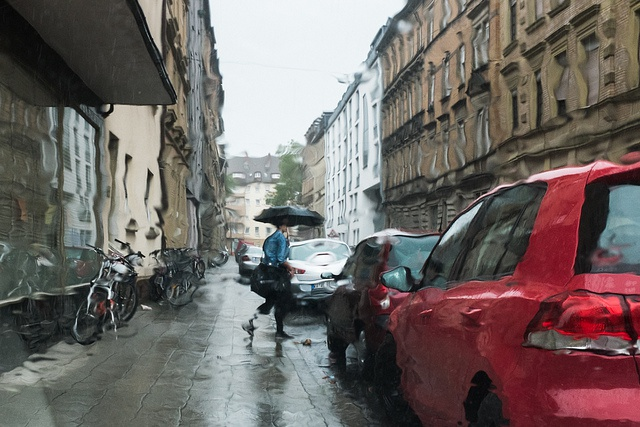non-vehicle: (74, 244, 135, 344), (165, 247, 198, 305), (147, 247, 168, 302), (188, 254, 206, 281), (215, 250, 229, 266)
